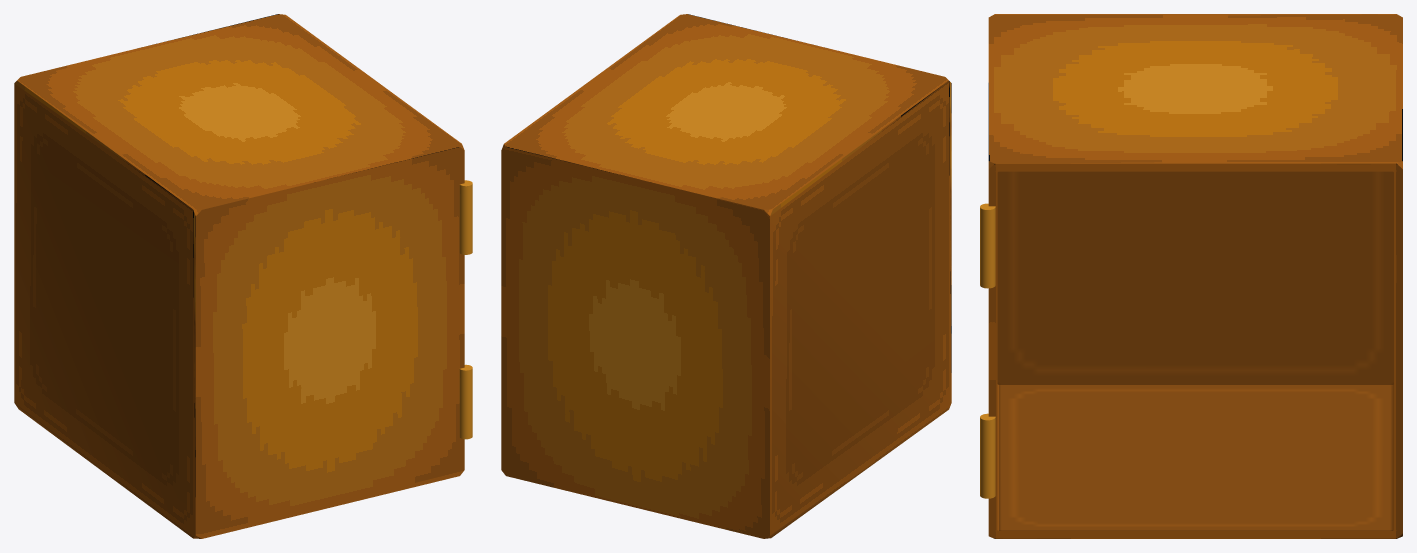
File: Greed_Safe.glb
The picture shows the model from 3 angles, left to right: view 1: azimuth 30°, elevation 25°; view 2: azimuth 150°, elevation 25°; view 3: azimuth 270°, elevation 25°; orthographic projection. The views are drawn at different scales.
Parts seen in each view (by area): view 1: Cube, Cylinder, Cylinder.001; view 2: Cube; view 3: Cube, Cylinder.001, Cylinder.
Part boxes in pixels (x1=…): Cube: x1=14, y1=14, x2=464, y2=538; Cylinder: x1=459, y1=180, x2=472, y2=254; Cylinder.001: x1=459, y1=364, x2=472, y2=439; Cube: x1=501, y1=14, x2=951, y2=538; Cube: x1=988, y1=14, x2=1402, y2=538; Cylinder.001: x1=980, y1=413, x2=995, y2=498; Cylinder: x1=980, y1=203, x2=995, y2=288.
Size of the model in its own units: 1.75 by 2 by 2.04.
2 materials, 2 textured.
